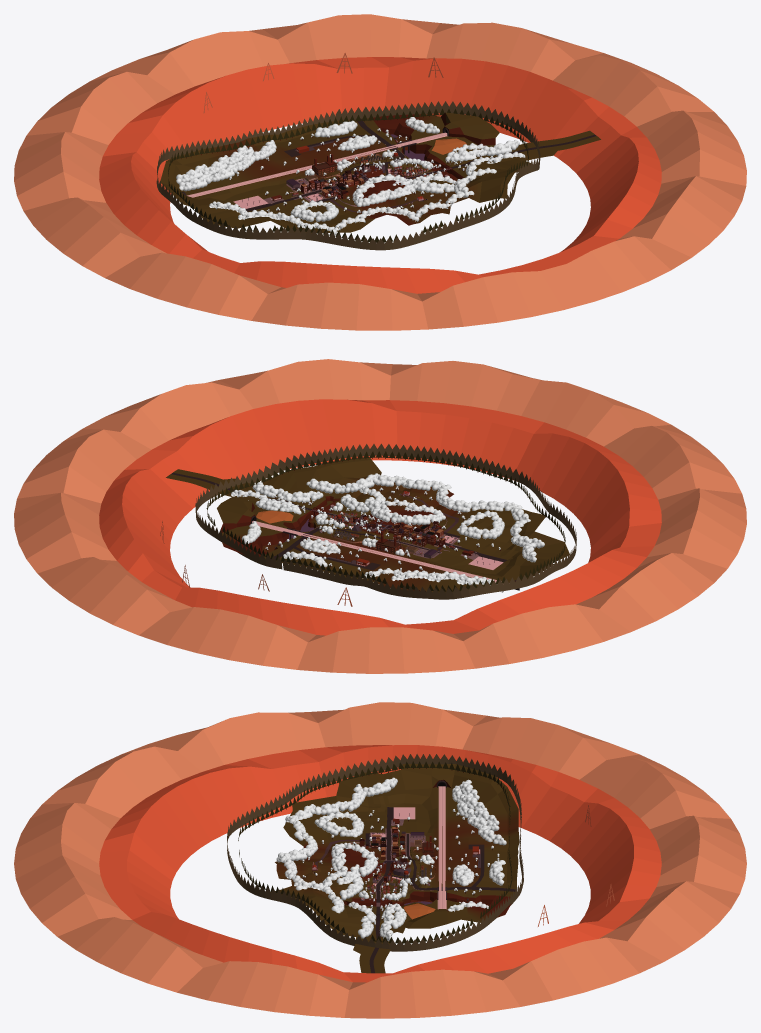
File: NITWworld.fbx
The picture shows the model from 3 angles, top to bottom: view 1: azimuth 30°, elevation 25°; view 2: azimuth 150°, elevation 25°; view 3: azimuth 270°, elevation 25°; orthographic projection.
Visible parts, largest first — view 1: Cube.111, Cube.001; view 2: Cube.111, Cube.001; view 3: Cube.111, Cube.001.
Part boxes in pixels (box(x1,y1,x2,y2)): Cube.111: box(14, 14, 746, 330); Cube.001: box(176, 117, 525, 235); Cube.111: box(14, 359, 746, 673); Cube.001: box(231, 473, 544, 592); Cube.111: box(14, 702, 746, 1018); Cube.001: box(276, 777, 506, 941).
Size of the model in its own units: 233352 by 20580 by 233352.
